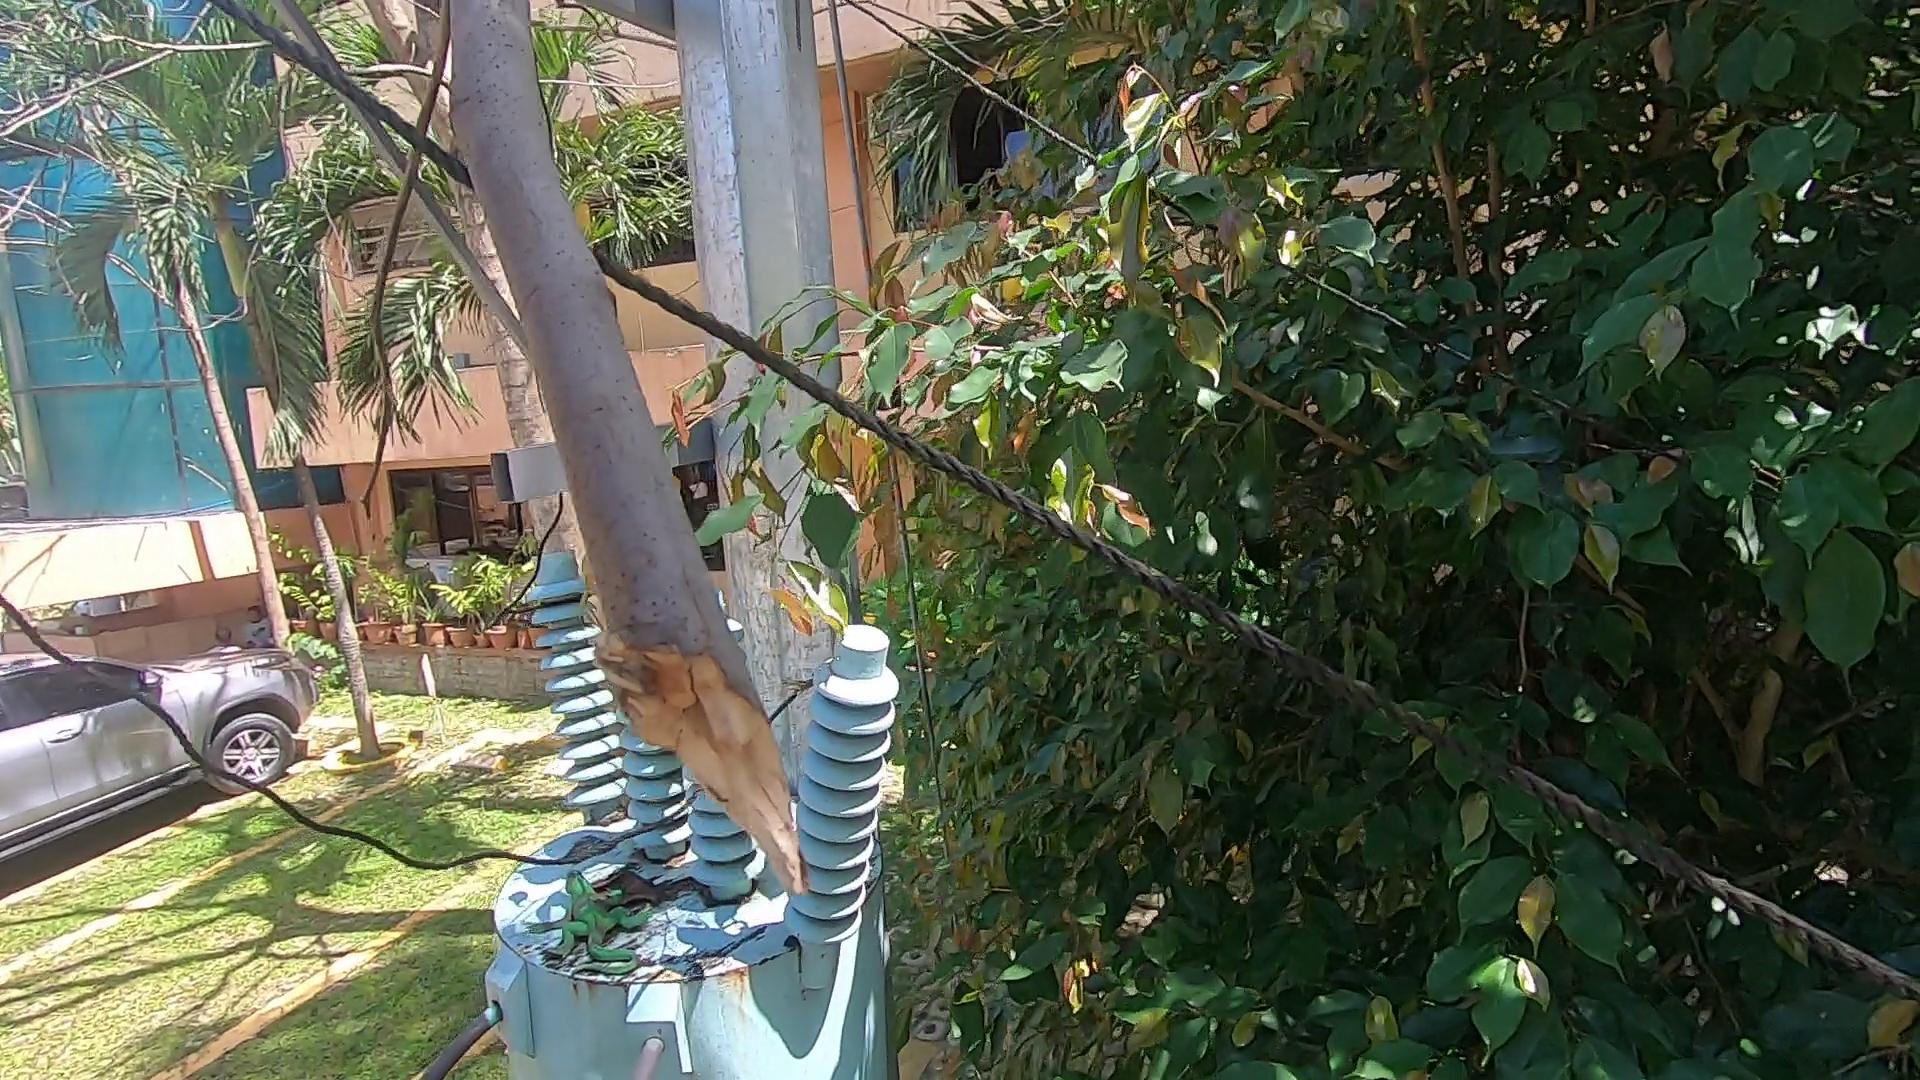branch with leaves: (654, 301, 895, 661)
leaf: (591, 865, 712, 924), (576, 814, 655, 829)
tree branch: (400, 11, 893, 861)
